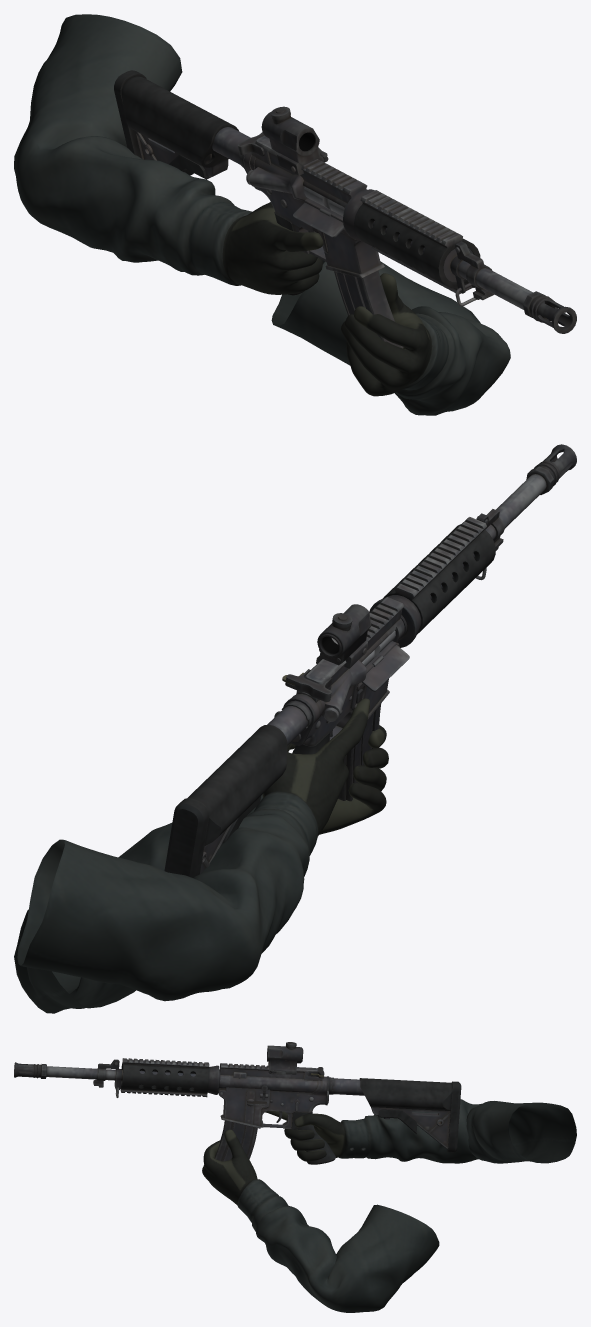
Rendered from carbine_000063.obj.
3 views of the same model, one above another, from view 1: azimuth 30°, elevation 25°; view 2: azimuth 150°, elevation 25°; view 3: azimuth 270°, elevation 25° (orthographic). The views are drawn at different scales.
Parts seen in each view (by area): view 1: armmesh_arms_0, base_carbine_0, scope_carbine_0, clip_carbine_0, lid_carbine_0; view 2: armmesh_arms_0, base_carbine_0, scope_carbine_0, clip_carbine_0, lid_carbine_0, handle_carbine_0; view 3: armmesh_arms_0, base_carbine_0, scope_carbine_0, clip_carbine_0.
Part boxes in pixels (bbox=[...]): armmesh_arms_0: bbox=[14, 14, 510, 415]; base_carbine_0: bbox=[114, 70, 576, 333]; scope_carbine_0: bbox=[261, 106, 328, 175]; clip_carbine_0: bbox=[334, 270, 403, 348]; lid_carbine_0: bbox=[293, 202, 344, 237]; armmesh_arms_0: bbox=[14, 698, 388, 1013]; base_carbine_0: bbox=[164, 444, 576, 877]; scope_carbine_0: bbox=[316, 604, 371, 668]; clip_carbine_0: bbox=[338, 703, 381, 801]; lid_carbine_0: bbox=[362, 645, 409, 691]; handle_carbine_0: bbox=[285, 669, 332, 701]; armmesh_arms_0: bbox=[202, 1099, 576, 1312]; base_carbine_0: bbox=[14, 1058, 461, 1164]; scope_carbine_0: bbox=[267, 1042, 303, 1074]; clip_carbine_0: bbox=[215, 1120, 257, 1161].
Size of the model in its own units: 48.98 by 52.59 by 127.
3 materials, 3 textured.
